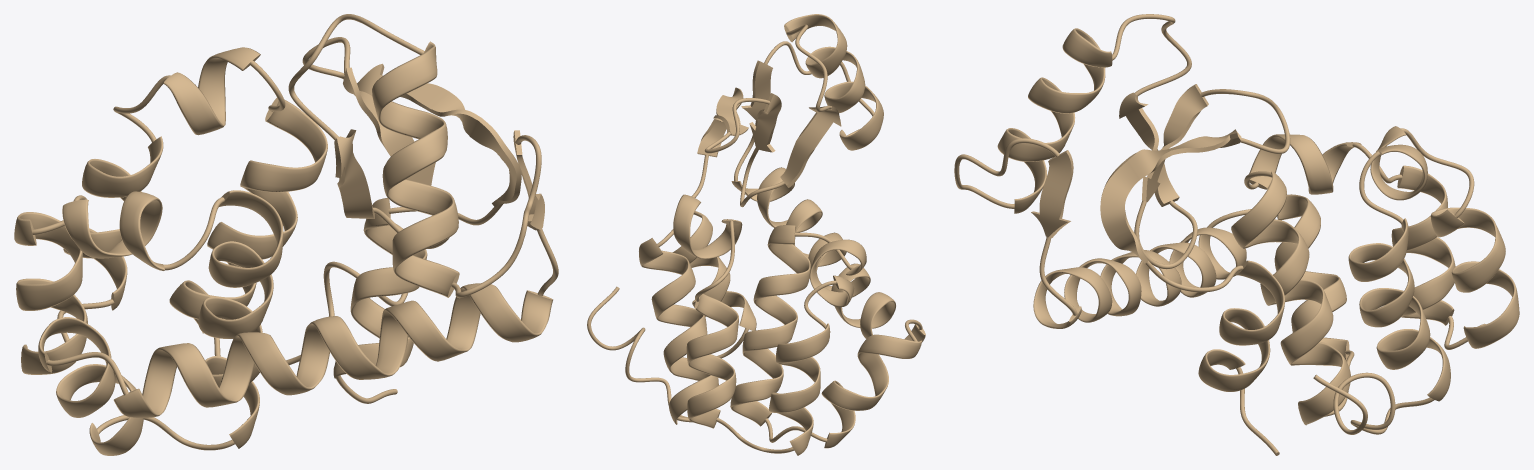
The model's file is molecule.glb.
3 renders of one model, left to right at view 1: azimuth 30°, elevation 25°; view 2: azimuth 150°, elevation 25°; view 3: azimuth 270°, elevation 25°, orthographic. The views are drawn at different scales.
Parts seen in each view (by area): view 1: ribbons; view 2: ribbons; view 3: ribbons.
Boxes of the visible parts, x1,y1,x2,y2 form: ribbons: (14, 14, 558, 455); ribbons: (587, 14, 925, 455); ribbons: (954, 14, 1519, 455).
Size of the model in its own units: 34.74 by 38.43 by 46.14.
